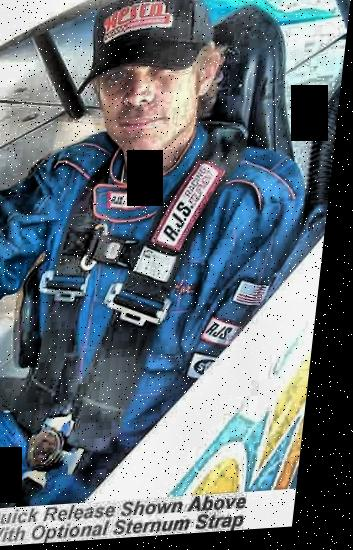seatbelt: (88, 164, 252, 440), (40, 170, 113, 423)
